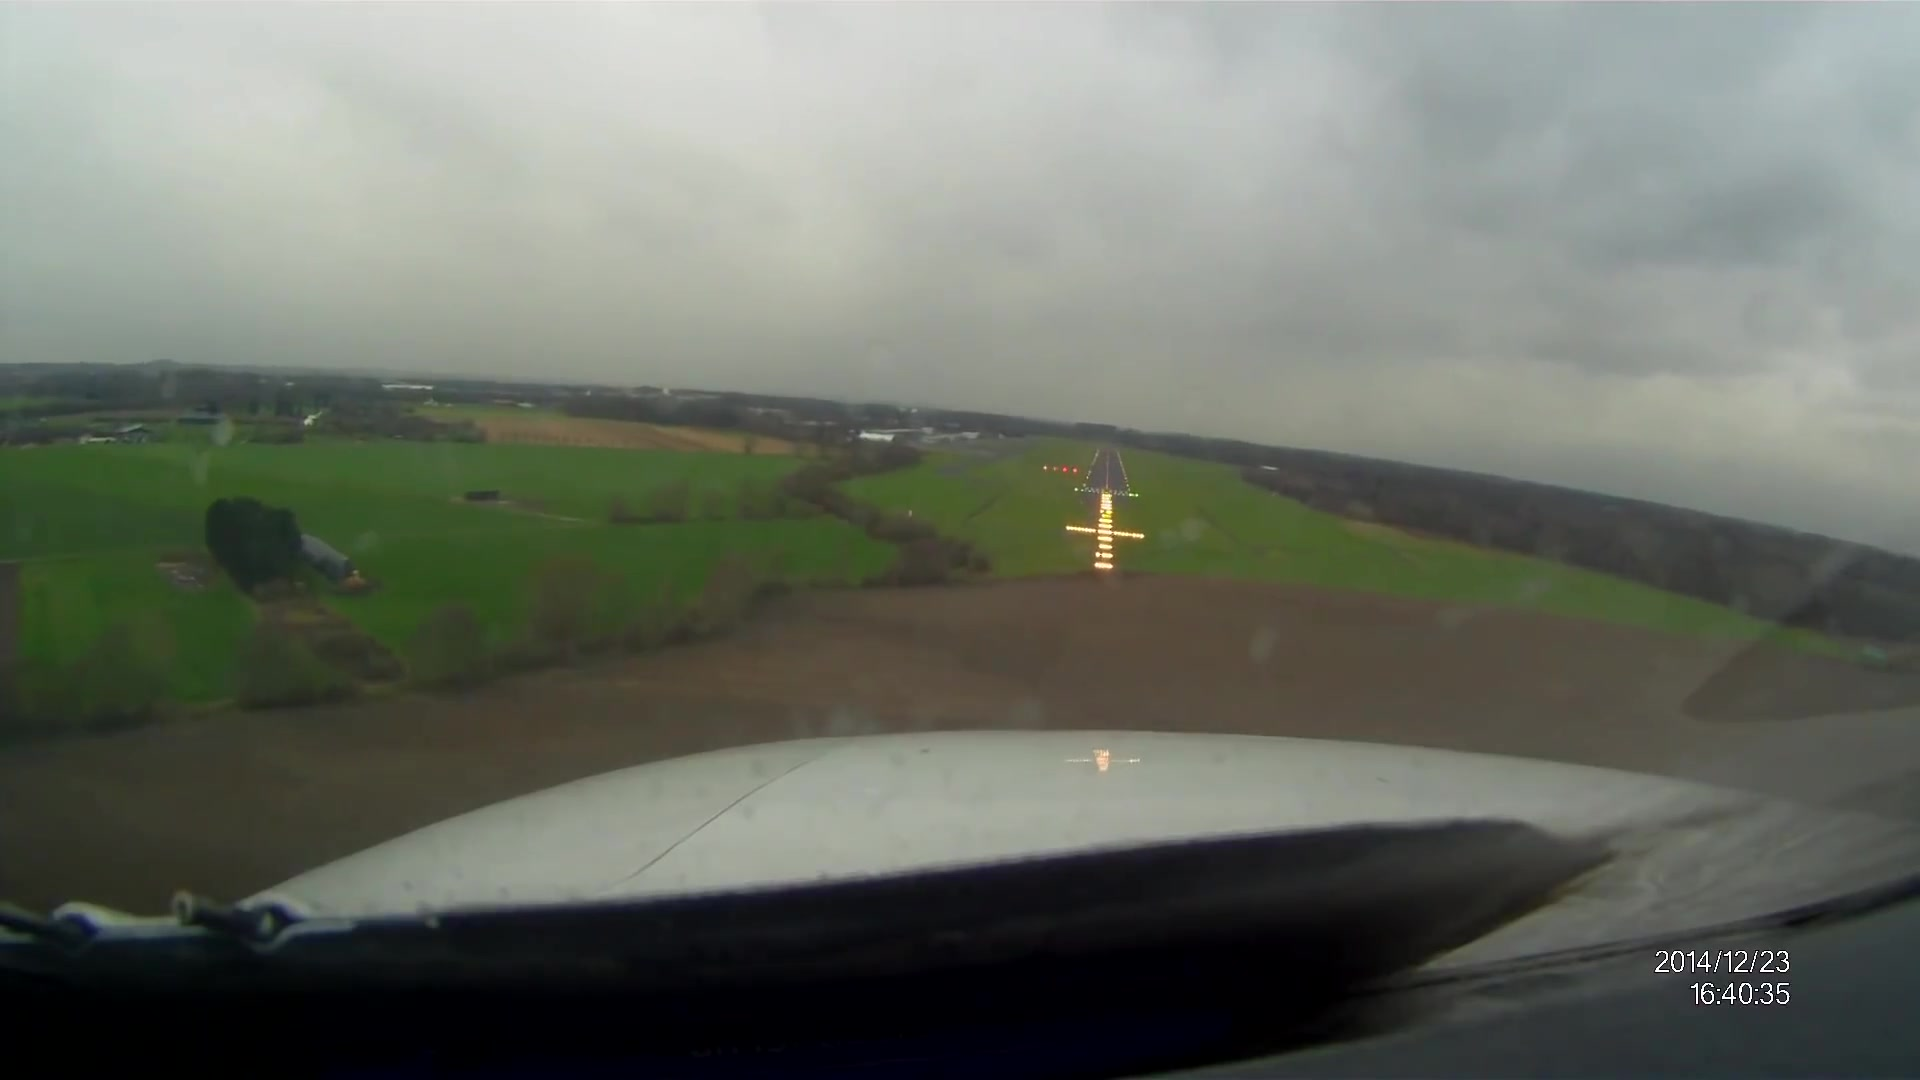entrance: (1084, 487, 1129, 495)
runway: (1077, 450, 1134, 497)
